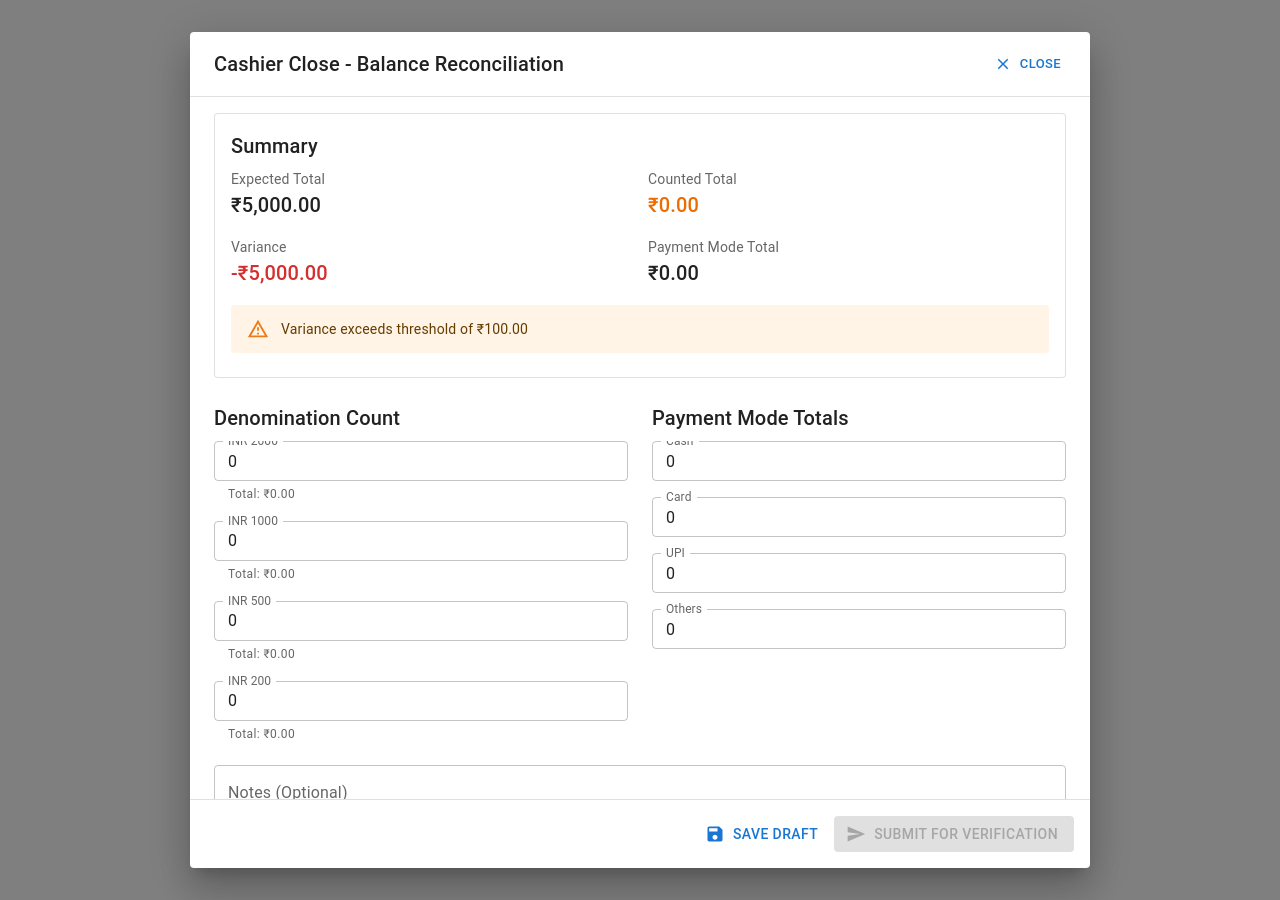
Scenario: CashierCloseModal › shows variance calculation
Enter denomination that creates variance
Replace the text in the number field labelled "INR 1000" with "4": (421,541) [214,521,628,561]
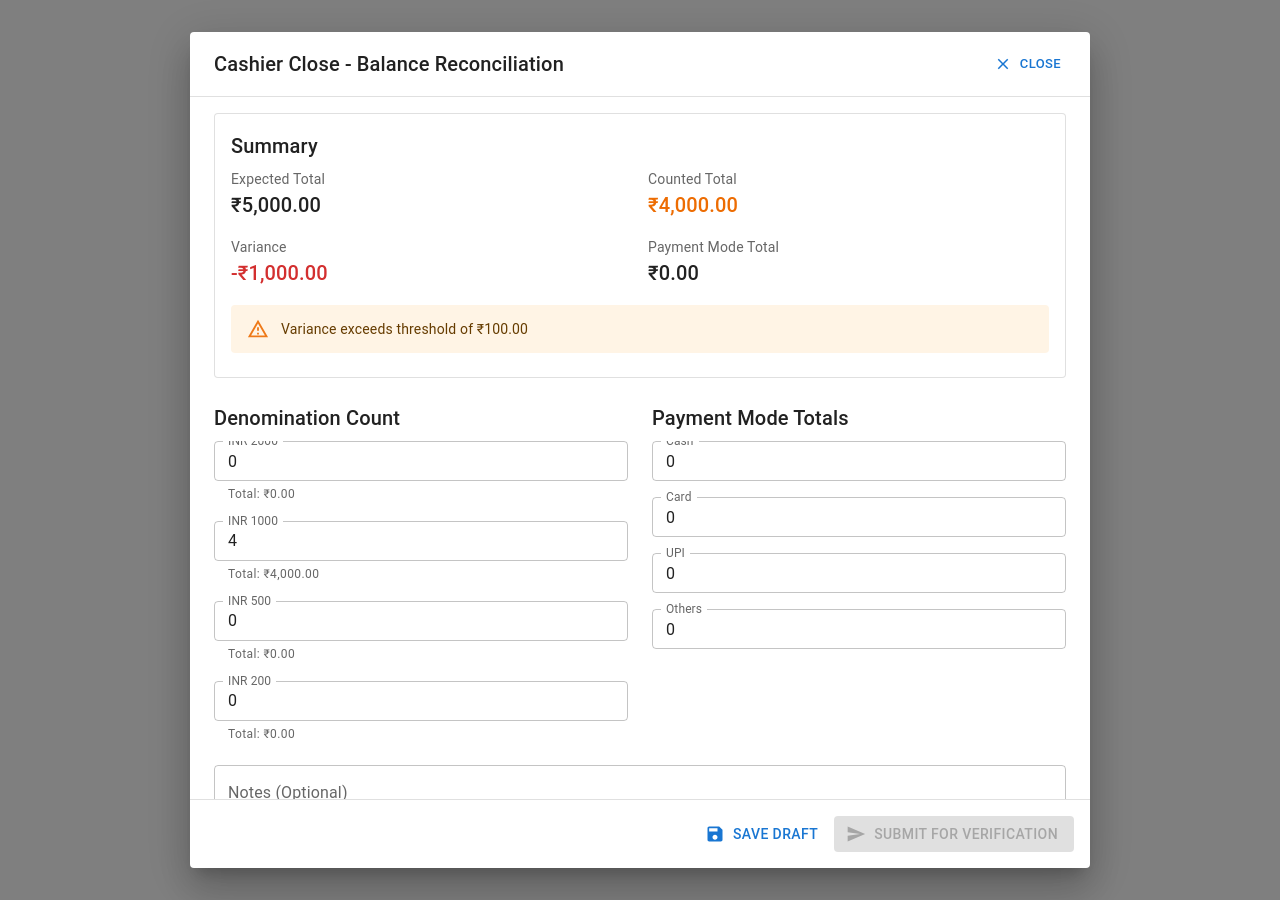
Check: the heading "-₹1,000.00" is shown, box [231,261,328,285]
